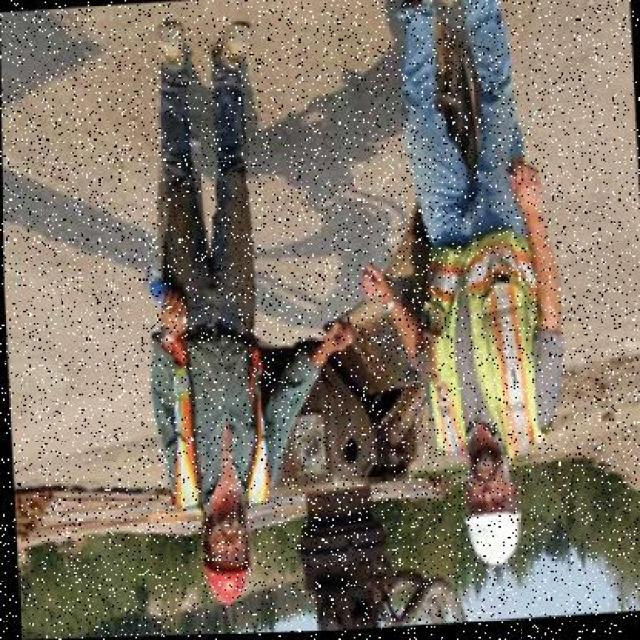helmet: (455, 488, 521, 572), (197, 546, 253, 610)
vest: (417, 228, 532, 452)
